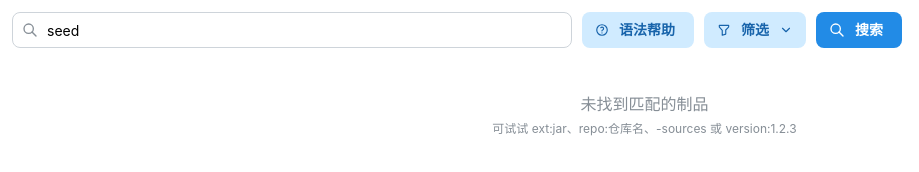
SearchPage 搜索建议下拉 › 仓库名候选确认：只改写表达式、不发起搜索
The image size is (919, 172).
Replace the text in the dropdown with placeholder "搜索制品，支持 -排除词 repo: format: ext: 表达式" with "maven" at (292, 30), box 12,12 -> 572,48
Wait 250 ms
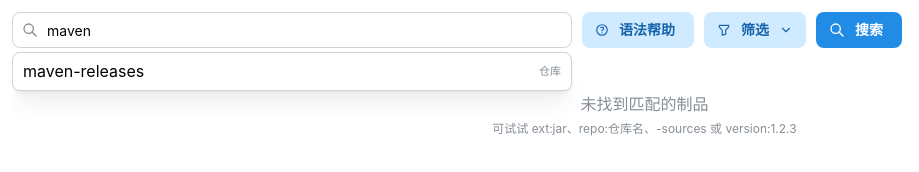
Press the mouse on the option with test id "search-suggest-option" at (84, 71), box 23,61 -> 561,81
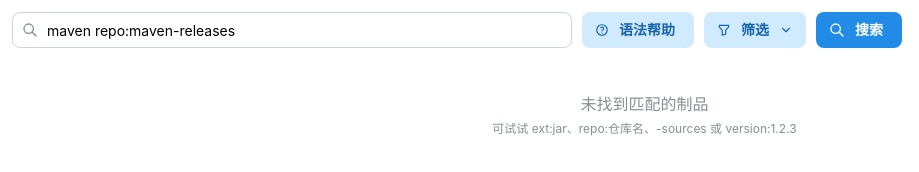
Check: the dropdown with placeholder "搜索制品，支持 -排除词 repo: format: ext: 表达式" holds "maven repo:maven-releases", box 12,12 -> 572,48
Check: the list with test id "search-suggest-listbox" is gone
